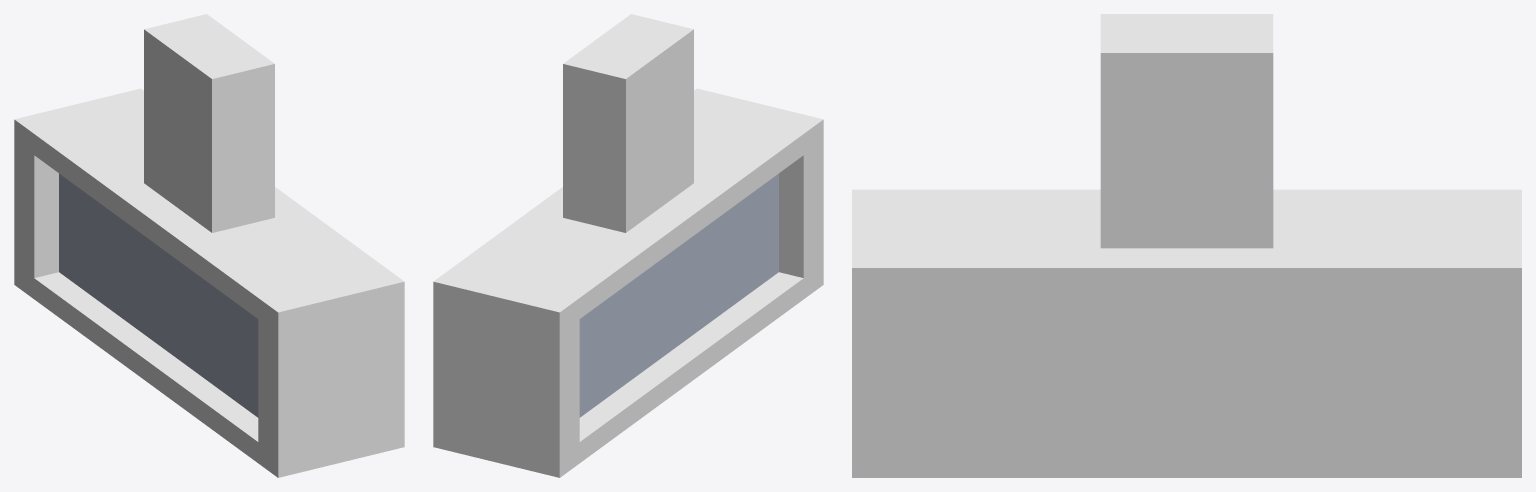
File: RearMirrorCase.glb
The picture shows the model from 3 angles, left to right: view 1: azimuth 30°, elevation 25°; view 2: azimuth 150°, elevation 25°; view 3: azimuth 270°, elevation 25°; orthographic projection. The views are drawn at different scales.
Parts seen in each view (by area): view 1: RearMirrorCase.004; view 2: RearMirrorCase.004; view 3: RearMirrorCase.004.
Boxes of the visible parts, x1,y1,x2,y2 form: RearMirrorCase.004: [14, 14, 404, 477]; RearMirrorCase.004: [433, 14, 823, 477]; RearMirrorCase.004: [852, 14, 1521, 477].
Bounding box in the file's own units: 0.00258 × 0.00623 × 0.00932.
1 material, 1 textured.
